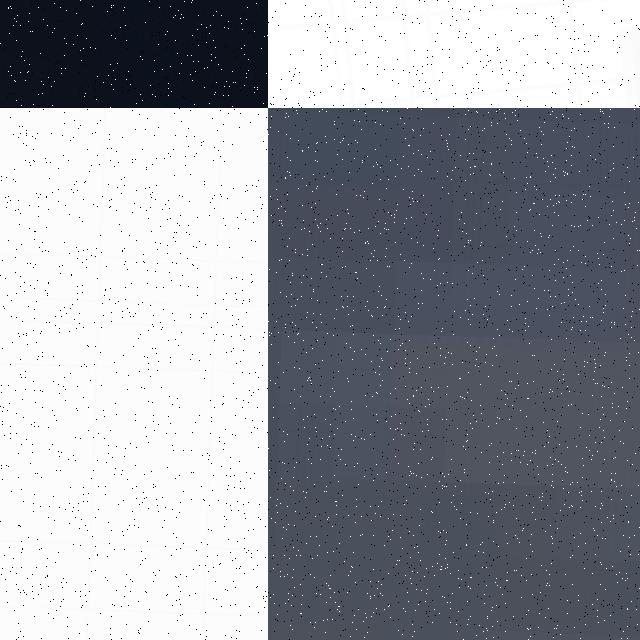drone: (268, 0, 640, 108), (0, 0, 268, 108)
